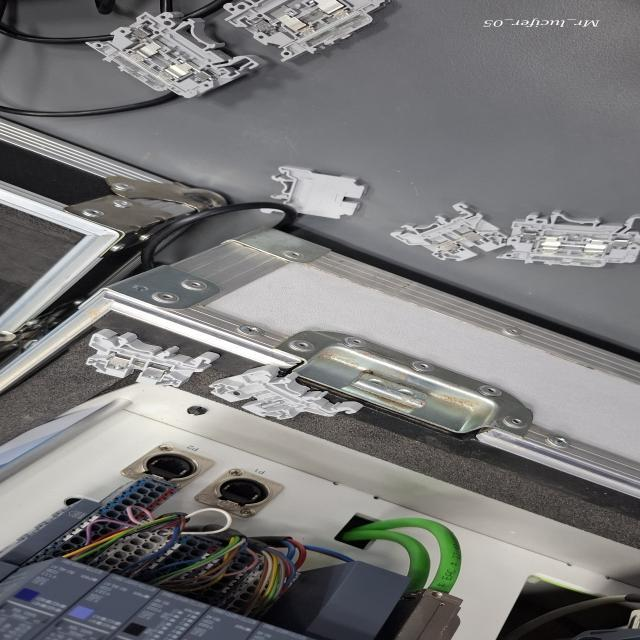Inverted: (258, 156, 365, 222)
Pass: (71, 328, 213, 395), (383, 198, 506, 262)
Reject: (201, 365, 366, 438)
